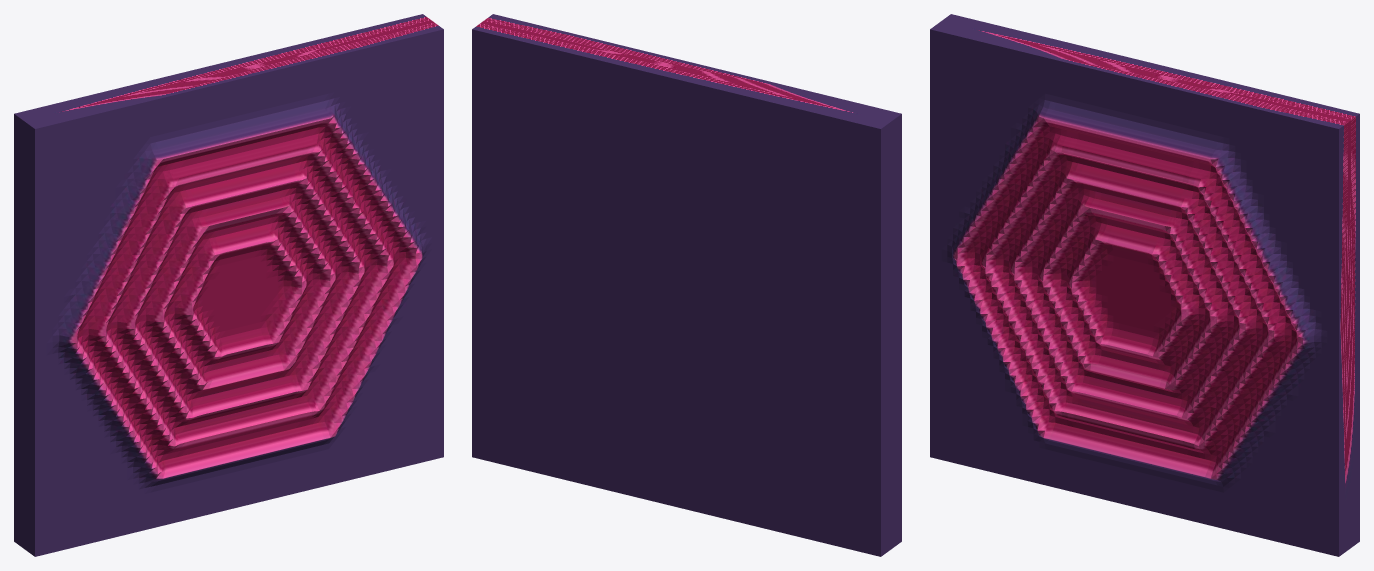
The model's file is asset_07.glb.
The picture shows the model from 3 angles, left to right: view 1: azimuth 30°, elevation 25°; view 2: azimuth 150°, elevation 25°; view 3: azimuth 330°, elevation 25°; orthographic projection.
Parts seen in each view (by area): view 1: geometry_0; view 2: geometry_0; view 3: geometry_0.
Boxes of the visible parts, x1,y1,x2,y2 form: geometry_0: (14, 14, 443, 556); geometry_0: (472, 14, 901, 556); geometry_0: (930, 14, 1359, 556).
Size of the model in its own units: 2 by 2 by 0.2482.
Materials: 1 (1 with a texture image).
